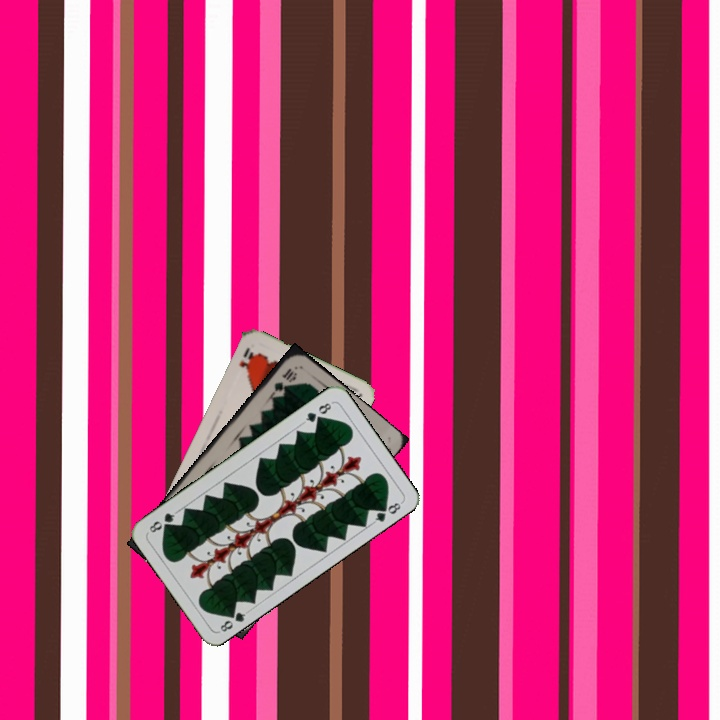G10: (267, 364, 299, 400)
G8: (215, 605, 251, 635), (299, 398, 335, 426)
HO: (235, 343, 256, 372)
